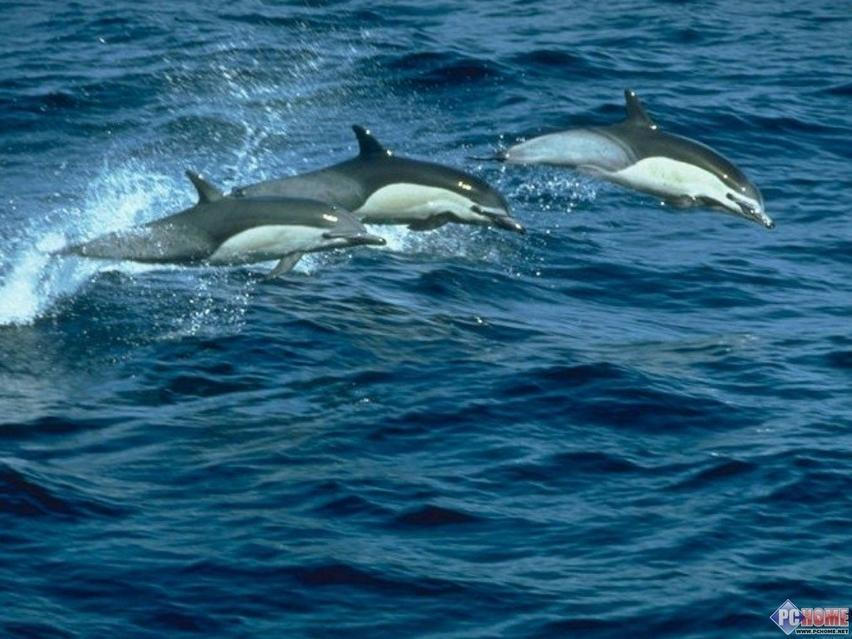fish: (494, 87, 781, 231), (53, 169, 390, 279), (223, 122, 528, 234)
